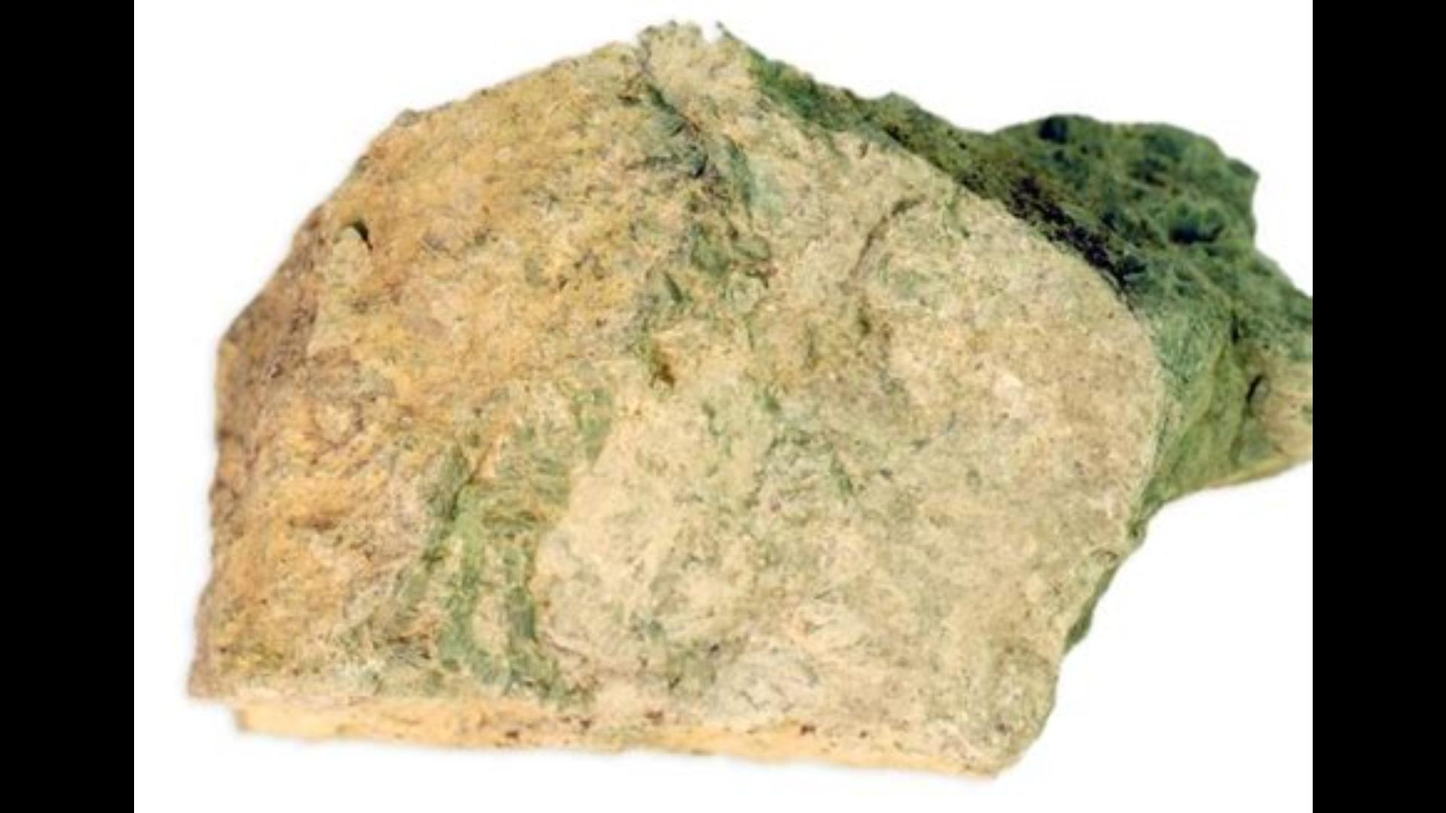rock: (191, 27, 1310, 766)
